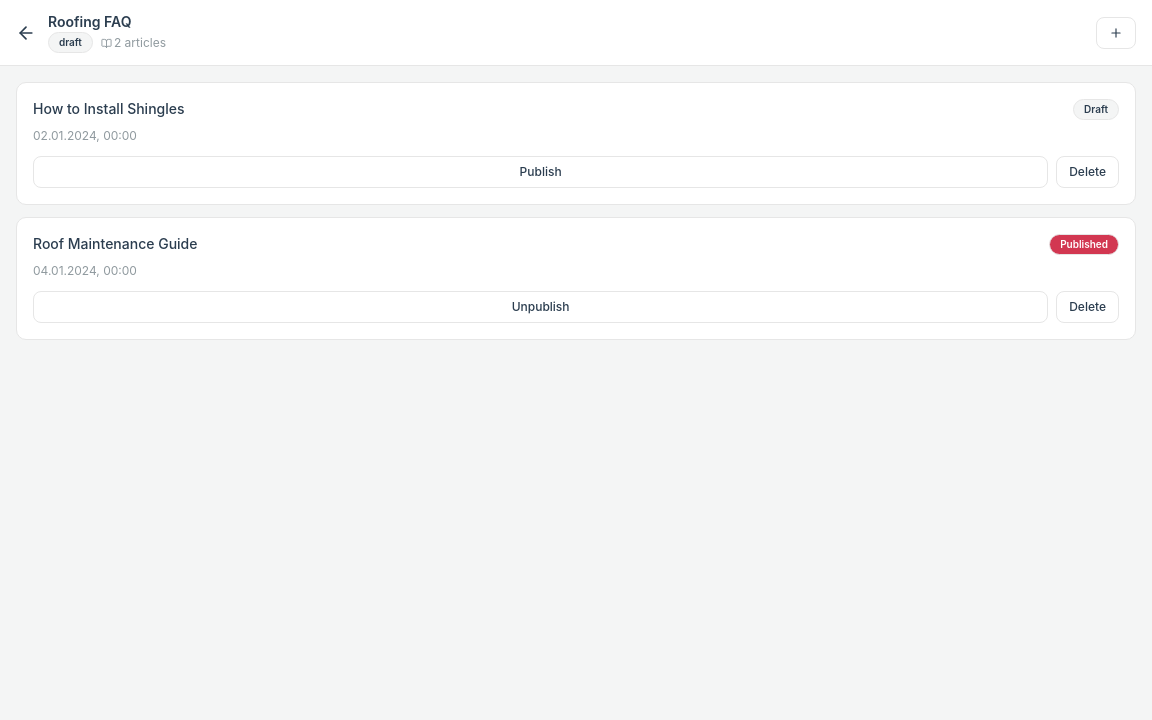
Scenario: MobileKnowledgeBaseDetail › create article form toggles open when create button is clicked
Click the button with test id "mobile-kb-article-create-button".
click(1116, 32)  # box [1096, 16, 1136, 48]
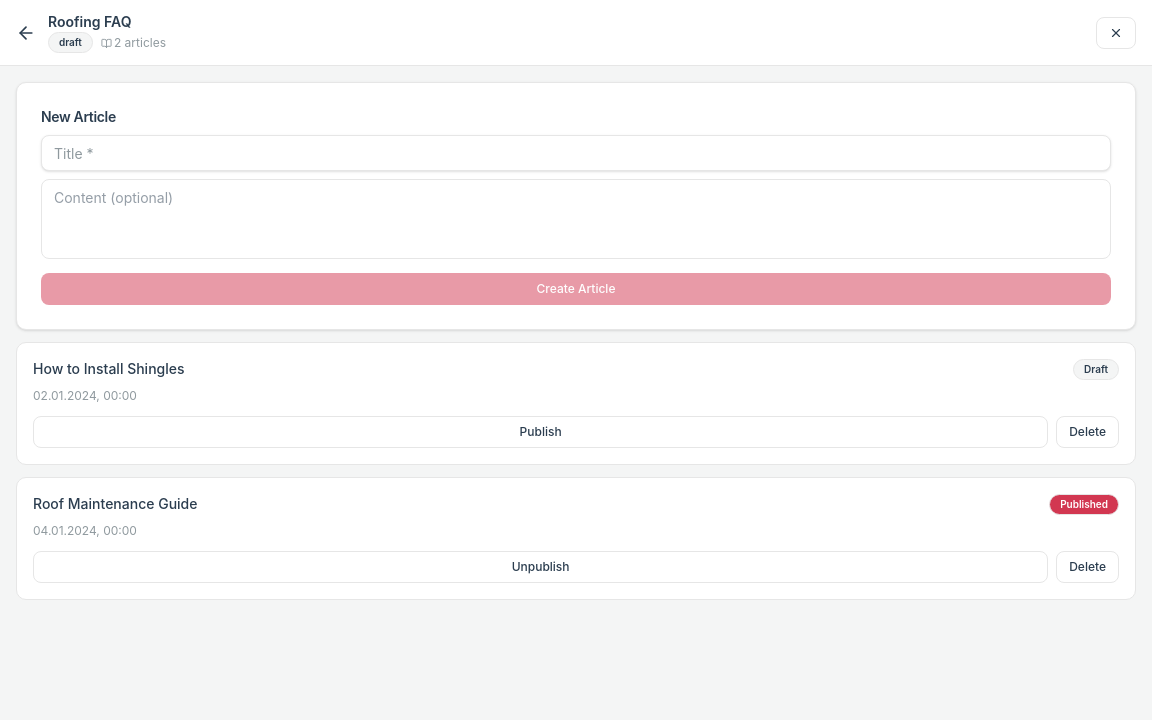
expect the element with test id "mobile-kb-article-create-form" is shown: met, box [16, 82, 1136, 330]
